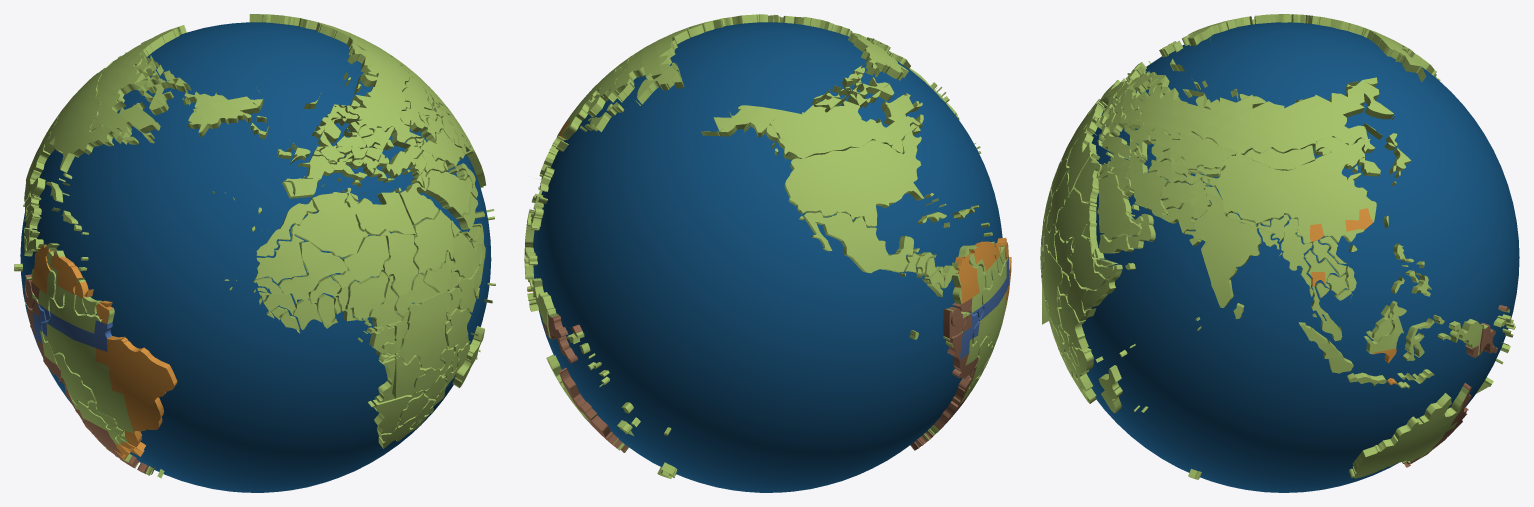
Rendered from Map.fbx.
The picture shows the model from 3 angles, left to right: view 1: azimuth 30°, elevation 25°; view 2: azimuth 150°, elevation 25°; view 3: azimuth 270°, elevation 25°; orthographic projection.
Visible parts, largest first — view 1: Icosphere.001, map2; view 2: Icosphere.001, map2; view 3: Icosphere.001, map2.
Boxes of the visible parts, x1,y1,x2,y2 form: Icosphere.001: (20,22,491,492); map2: (14,14,495,478); Icosphere.001: (533,22,1002,492); map2: (524,14,1011,478); Icosphere.001: (1082,22,1519,492); map2: (1040,14,1515,479).
Bounding box in the file's own units: 206 × 200 × 203.
